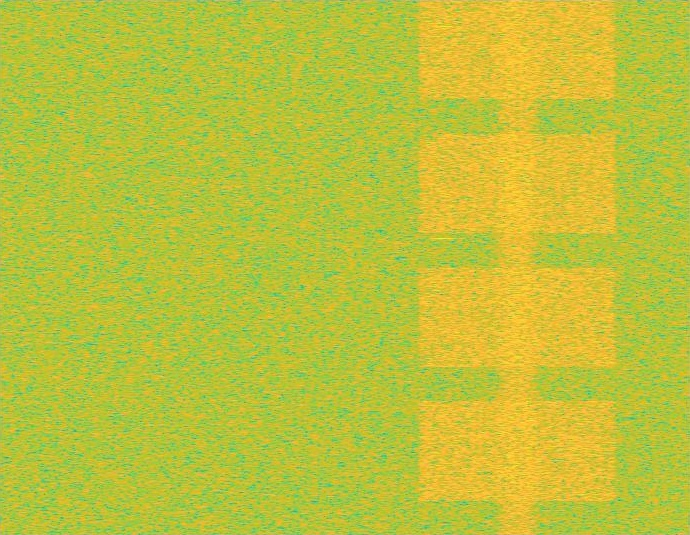5G: (414, 0, 621, 534)
DSSS: (494, 0, 541, 534)
Radar: (436, 0, 450, 534)
